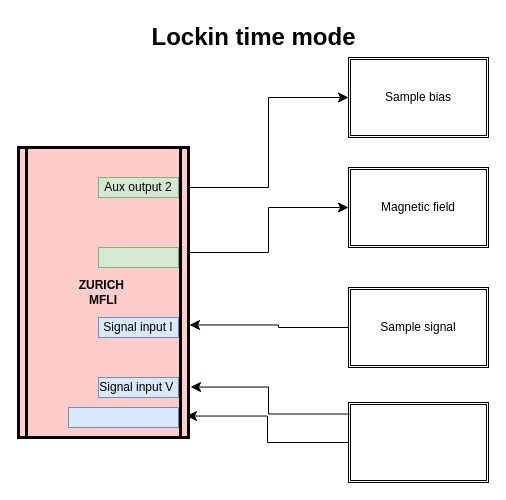
This 506x500 diagram has some shape labels left out. The centre of each missing label's shape, as x and y in pixels:
Aux input Ref 1: (123,417)
Magnet: (418,442)
Signal output: (138,257)
